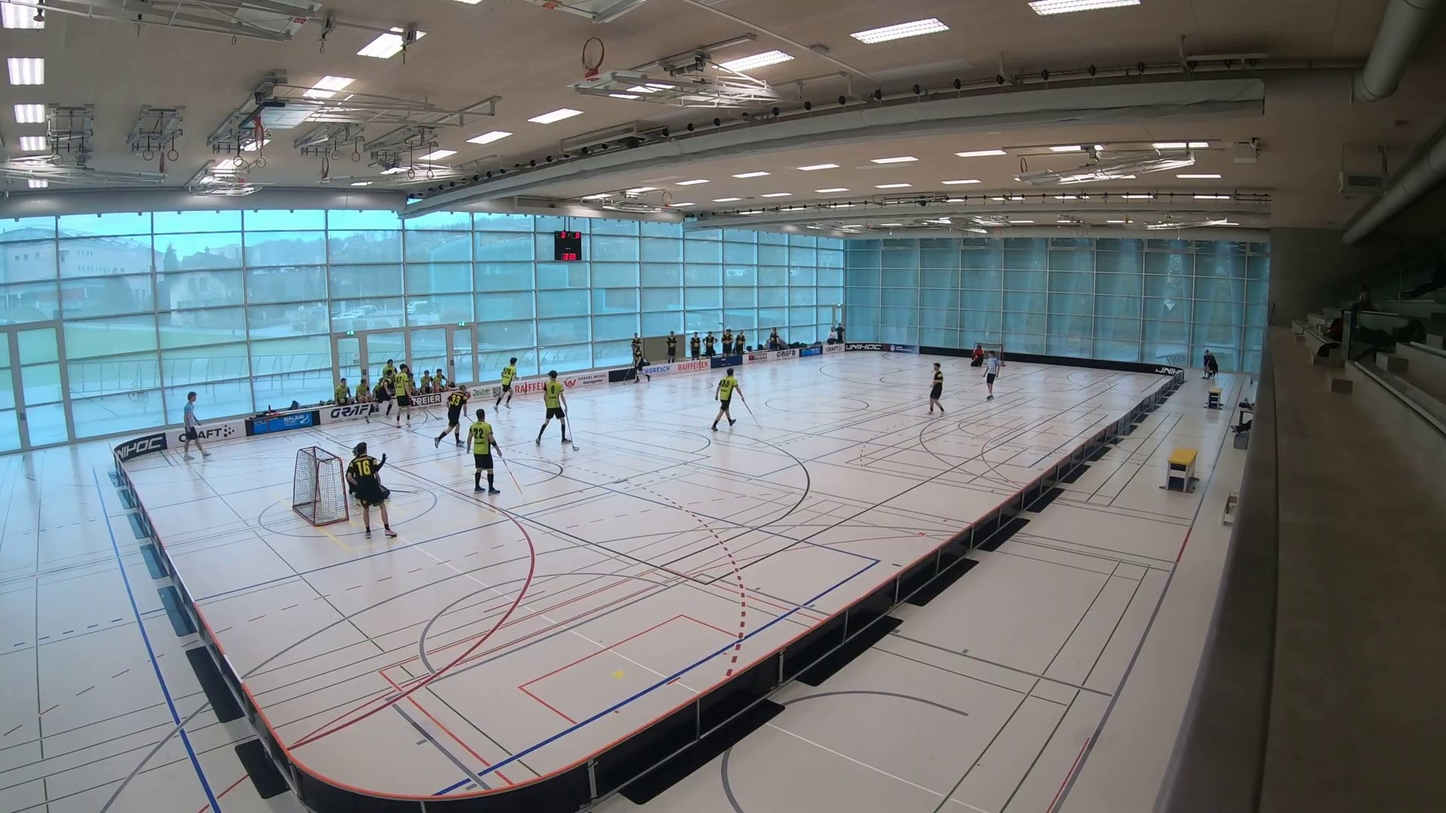goalkeeper: (971, 343, 984, 366)
player: (346, 442, 396, 537), (469, 408, 499, 494), (536, 370, 570, 444), (435, 388, 468, 447), (712, 368, 740, 431), (394, 363, 413, 427), (494, 357, 517, 407), (374, 371, 394, 417), (355, 371, 373, 421), (929, 363, 944, 414), (632, 355, 650, 383)
